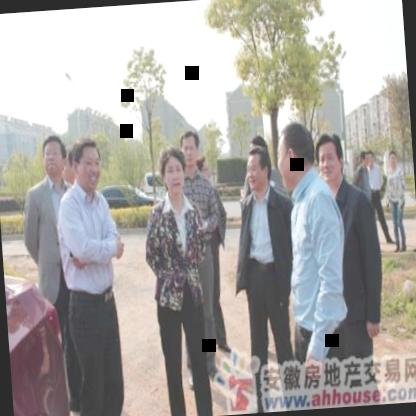head: (275, 119, 320, 192), (156, 140, 194, 202), (313, 133, 347, 190), (71, 136, 105, 192), (37, 130, 70, 186), (244, 137, 273, 195), (180, 125, 206, 172), (388, 148, 400, 170)
